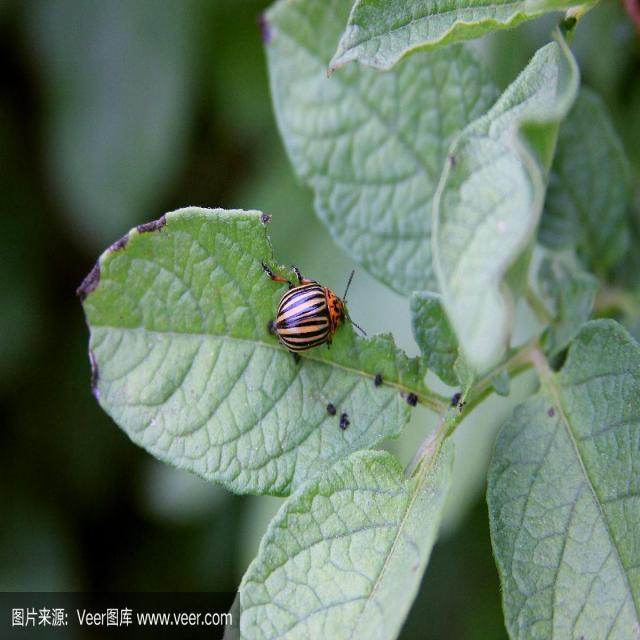ShuCaiHuaBanChong-Grown-: (262, 257, 354, 375)
